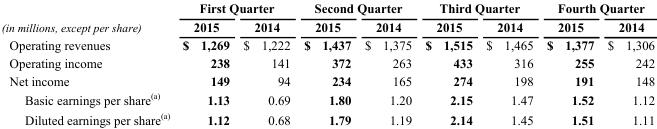table: (0, 0, 654, 126)
table column: (0, 0, 175, 126), (235, 0, 296, 126), (296, 0, 357, 126), (417, 0, 478, 126), (478, 0, 539, 126), (539, 0, 600, 126), (175, 0, 235, 126), (357, 0, 417, 126), (600, 0, 654, 126)
table column header: (0, 0, 654, 35)
table row: (0, 89, 654, 108), (0, 17, 654, 35), (0, 35, 654, 53), (0, 53, 654, 71), (0, 71, 654, 89), (0, 108, 654, 126), (0, 0, 654, 17)
table spanning cell: (0, 0, 175, 35), (417, 0, 539, 17), (175, 0, 296, 17), (296, 0, 417, 17), (539, 0, 654, 17)
